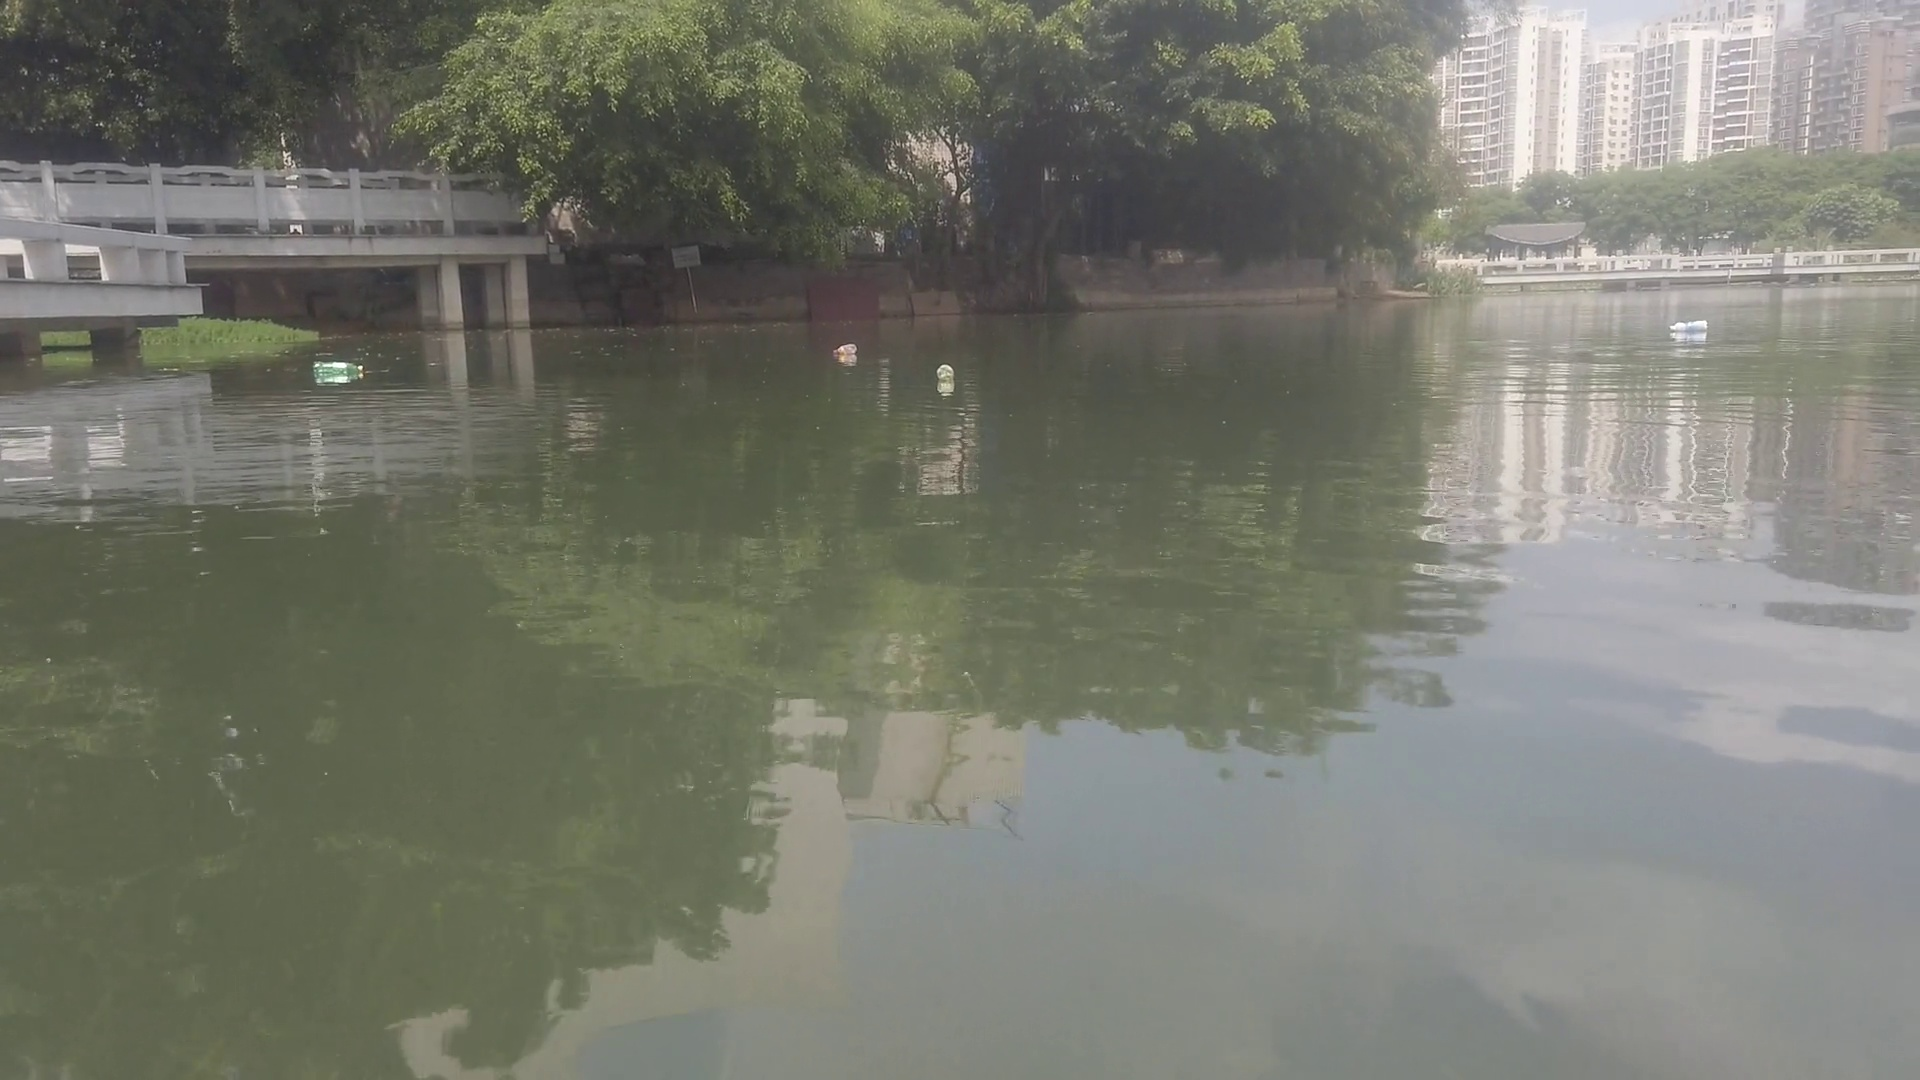bottle: (310, 357, 364, 378), (1665, 316, 1709, 334), (829, 338, 858, 356), (931, 361, 955, 384)
